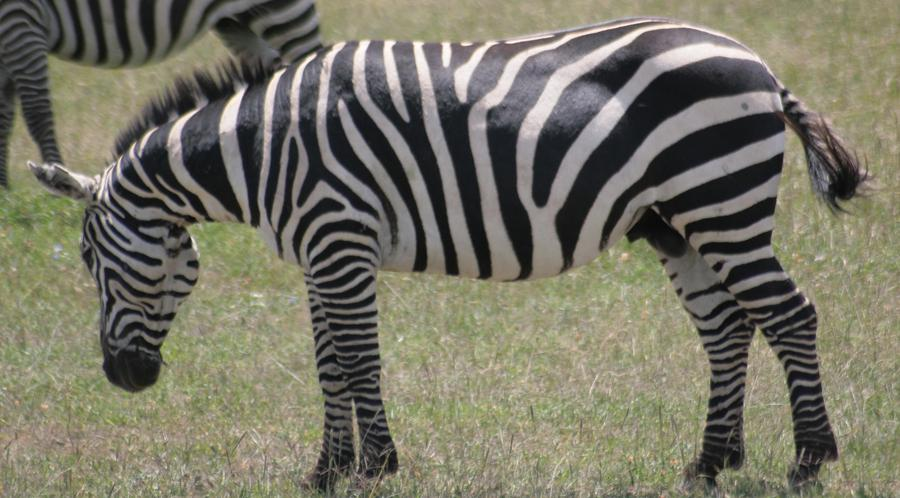zebra_plains: (257, 39, 789, 236)
